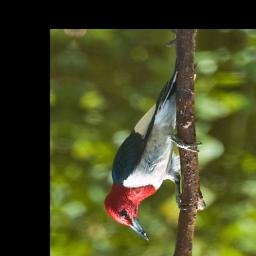Woodpecker: (99, 59, 210, 243)
